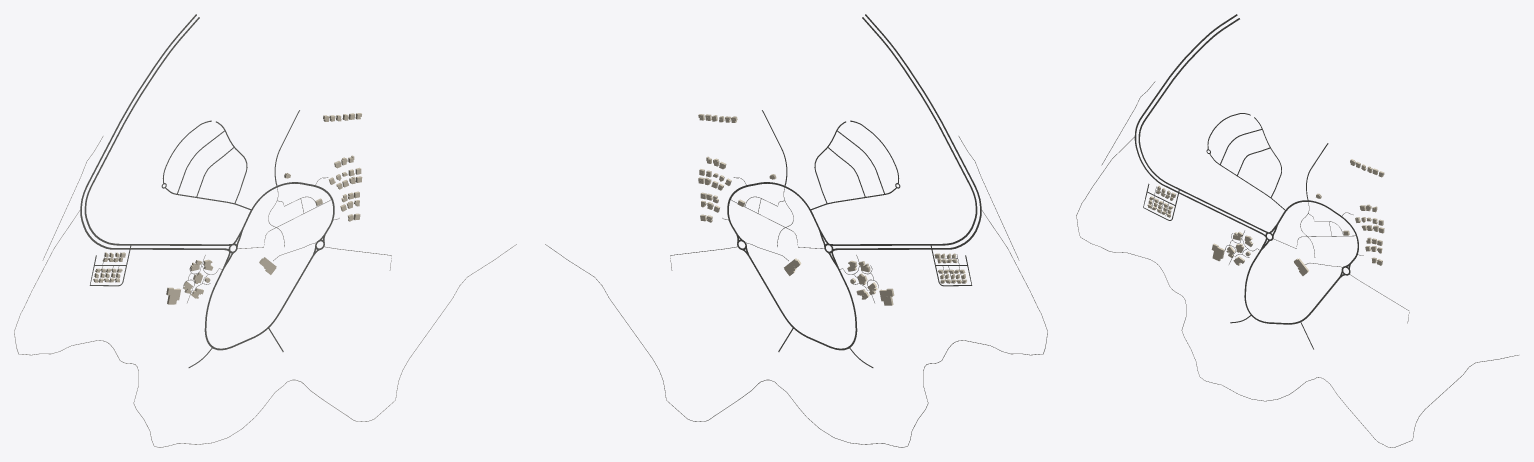
File: historic-palestine-07_21_3491_3151.glb
3 views of the same model, side by side, from view 1: azimuth 30°, elevation 25°; view 2: azimuth 150°, elevation 25°; view 3: azimuth 330°, elevation 25° (orthographic). The views are drawn at different scales.
Visible parts, largest first — view 1: Road, Road גוש קטיף.001, Road גוש קטיף, Road שדרות נווה דקלים.006; view 2: Road, Road גוש קטיף.001, Road גוש קטיף, Road שדרות נווה דקלים.006; view 3: Road, Road גוש קטיף.001, Road גוש קטיף.
Boxes of the visible parts, box(x1,y1,x2,y2) form: Road: box(14, 208, 516, 447); Road גוש קטיף.001: box(80, 14, 229, 251); Road גוש קטיף: box(84, 17, 231, 245); Road שדרות נווה דקלים.006: box(204, 255, 313, 350); Road: box(545, 209, 1047, 447); Road גוש קטיף.001: box(832, 14, 981, 251); Road גוש קטיף: box(830, 17, 977, 245); Road שדרות נווה דקלים.006: box(748, 255, 857, 350); Road: box(1076, 136, 1518, 447); Road גוש קטיף.001: box(1134, 14, 1266, 237); Road גוש קטיף: box(1138, 18, 1268, 233).
Size of the model in its own units: 1506 by 1287 by 8.7.
